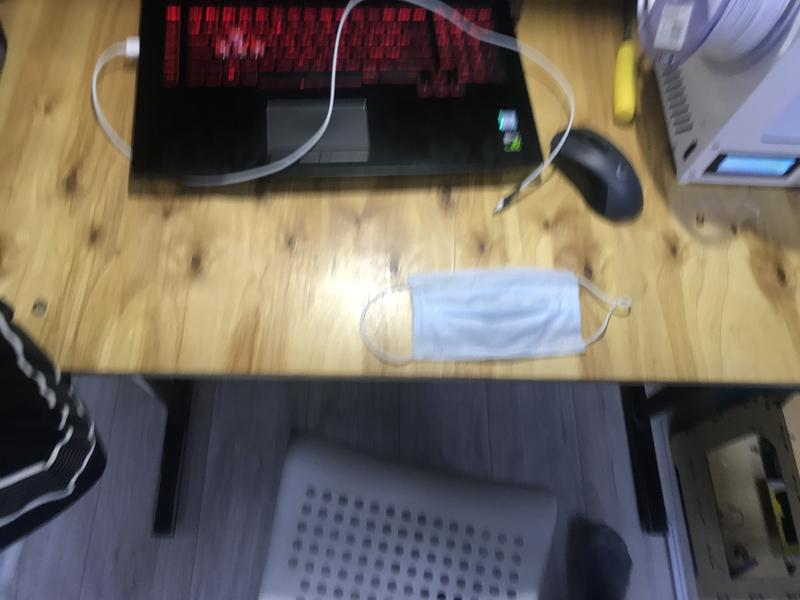medical_mask: (362, 266, 636, 364)
